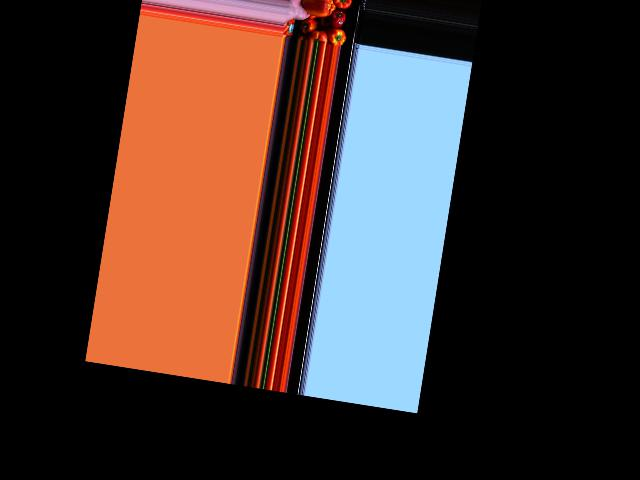bell_pepper: (301, 16, 318, 36)
